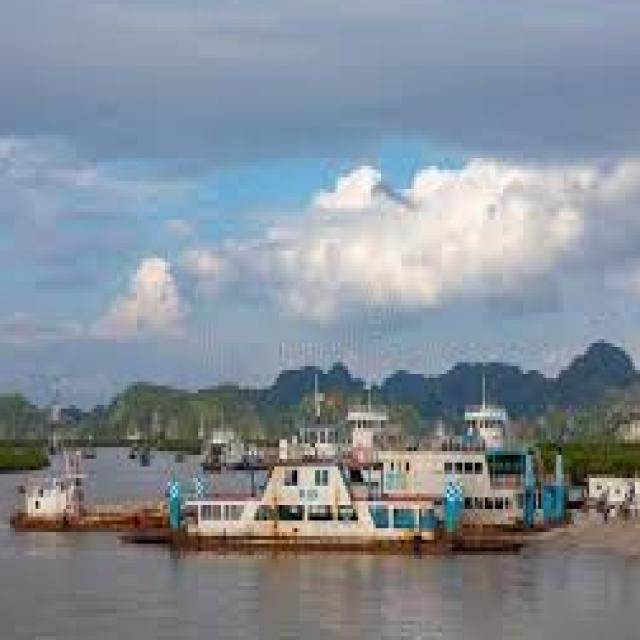houseboat: (159, 458, 429, 554)
